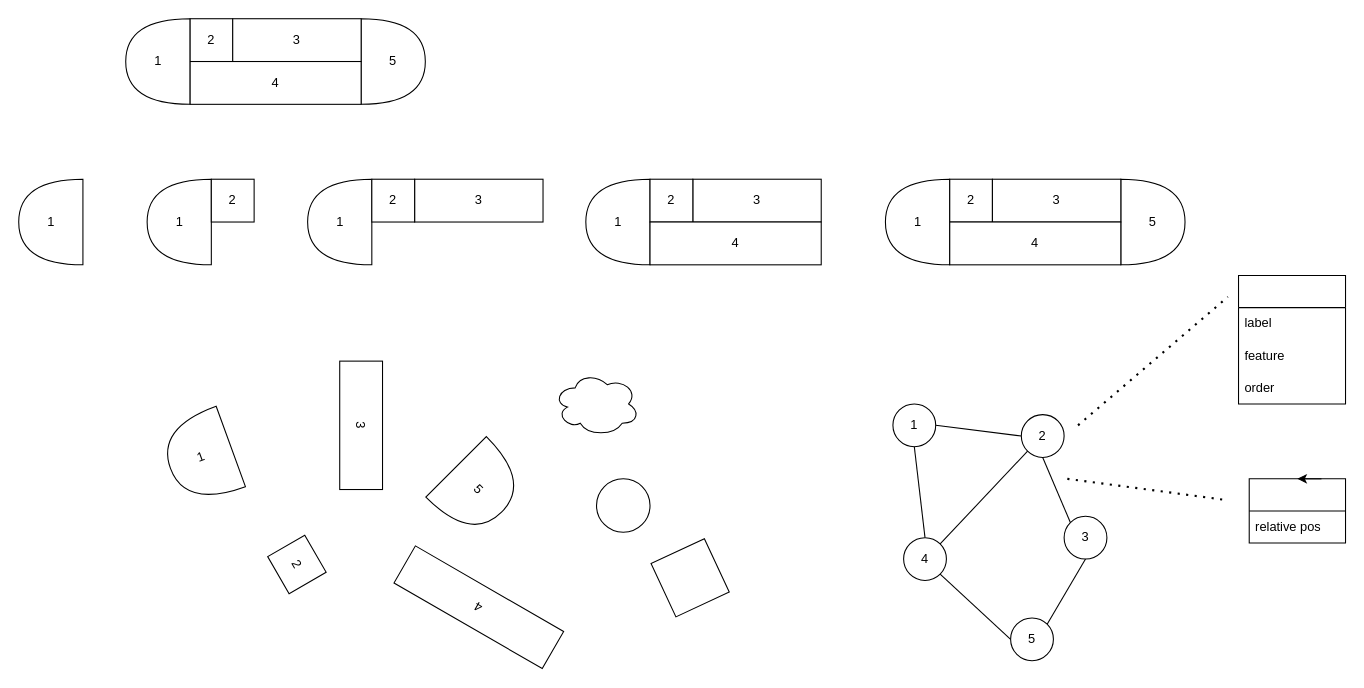
Some shapes in this 1364 by 688 pixel diagram are drawn without their labels. Each missing label, with the box of its shape:
edge feature: (1248, 478, 1346, 543)
node feature: (1237, 274, 1346, 404)
